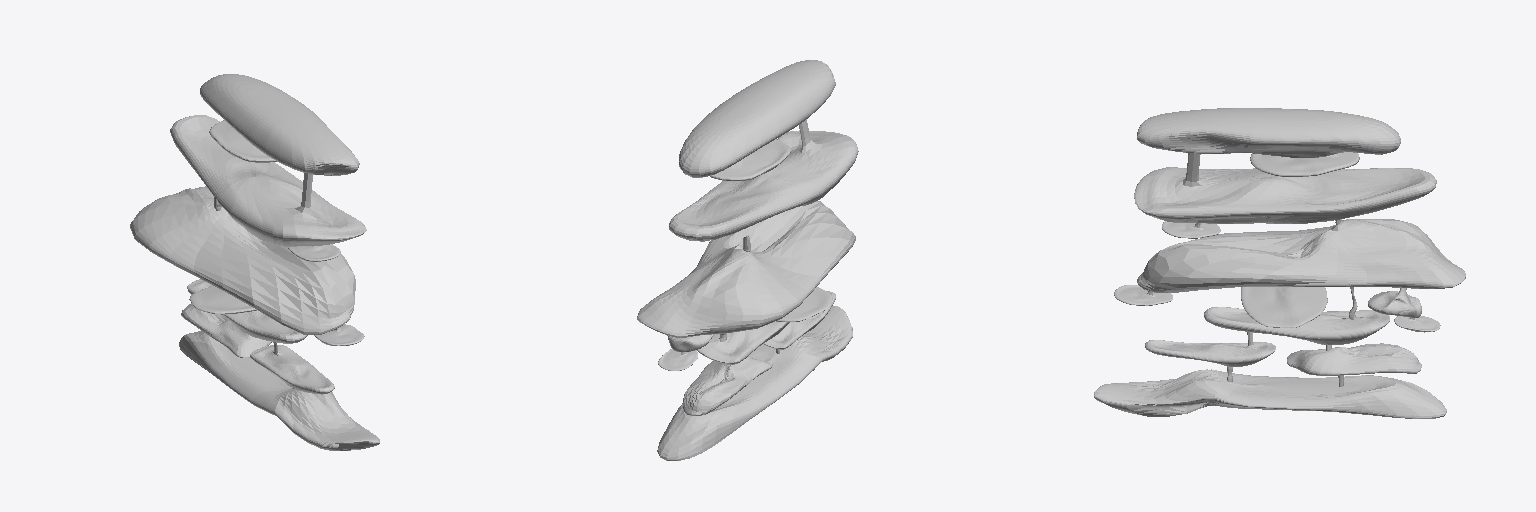
The model's file is [obj]Retículo Endoplasmático Rugoso.obj.
The picture shows the model from 3 angles: view 1: azimuth 30°, elevation 25°; view 2: azimuth 150°, elevation 25°; view 3: azimuth 270°, elevation 25°; orthographic projection.
Parts seen in each view (by area): view 1: Sphere_Sphere.003; view 2: Sphere_Sphere.003; view 3: Sphere_Sphere.003.
Part boxes in pixels (x1,y1,x2,y2): Sphere_Sphere.003: (130, 74, 379, 450); Sphere_Sphere.003: (637, 60, 858, 460); Sphere_Sphere.003: (1094, 108, 1465, 418).
Bounding box in the file's own units: 1.24 × 2.55 × 2.9.